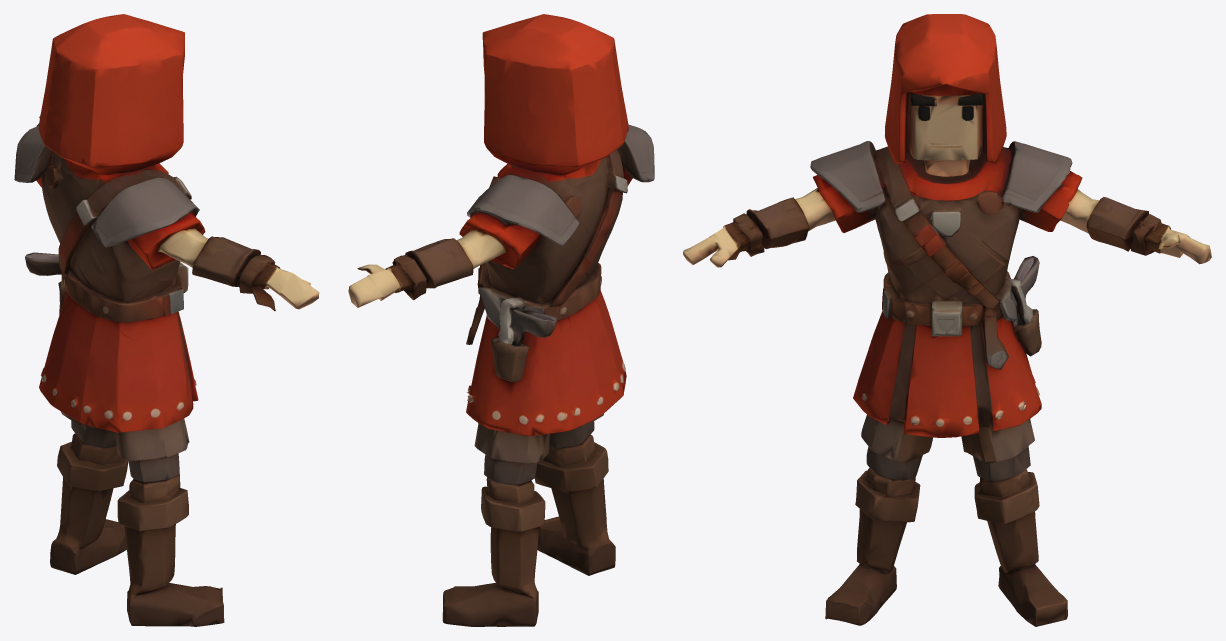
File: archer_a.glb
3 views of the same model, side by side, from view 1: azimuth 30°, elevation 25°; view 2: azimuth 150°, elevation 25°; view 3: azimuth 270°, elevation 25° (orthographic).
Parts seen in each view (by area): view 1: tripo_node_9adb8f5f-d58b-4586-8367-cf303cc5318f; view 2: tripo_node_9adb8f5f-d58b-4586-8367-cf303cc5318f; view 3: tripo_node_9adb8f5f-d58b-4586-8367-cf303cc5318f.
Part boxes in pixels (x1=…): tripo_node_9adb8f5f-d58b-4586-8367-cf303cc5318f: x1=14, y1=14, x2=319, y2=626; tripo_node_9adb8f5f-d58b-4586-8367-cf303cc5318f: x1=348, y1=14, x2=654, y2=626; tripo_node_9adb8f5f-d58b-4586-8367-cf303cc5318f: x1=683, y1=14, x2=1211, y2=626.
Bounding box in the file's own units: 0.2602 × 0.9775 × 0.8193.
Materials: 1 (1 with a texture image).
